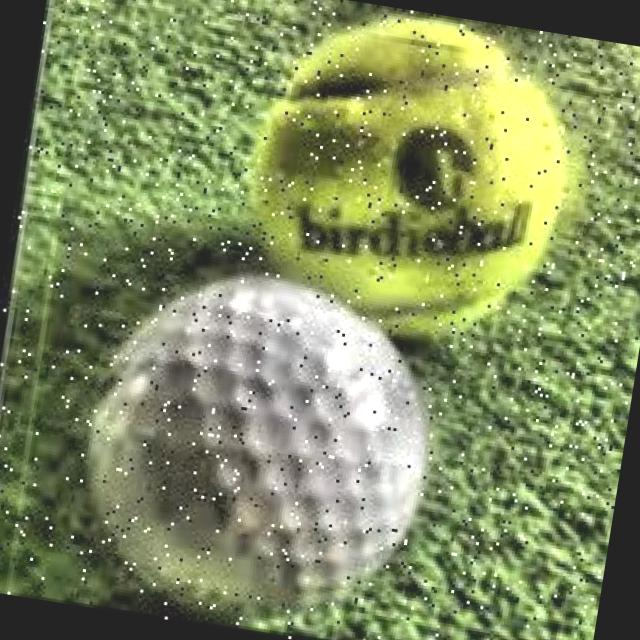tennis-ball: (226, 0, 604, 356)
